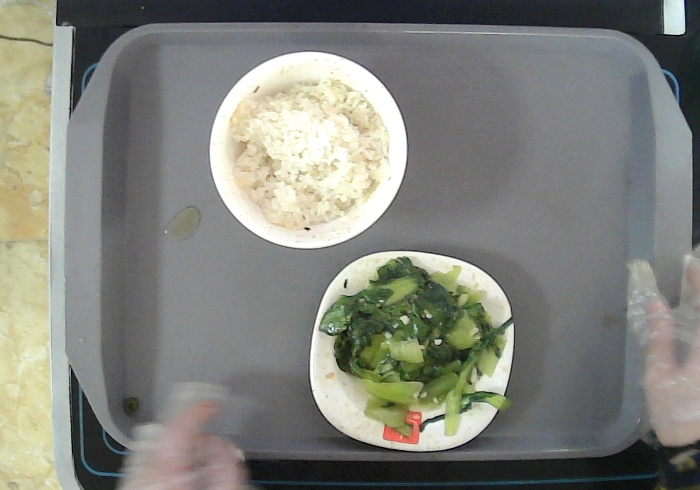SHKJ-Bai_Se_Si_Fang_Cai_Die: (310, 250, 515, 451)
SHKJ-Fan_Wan: (209, 50, 407, 250)
